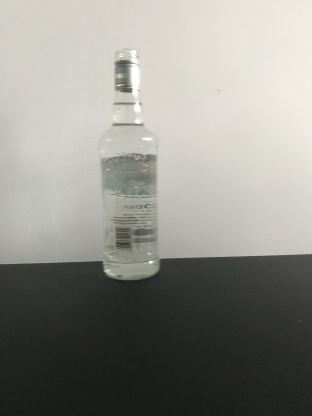nakretka: (112, 46, 142, 93)
